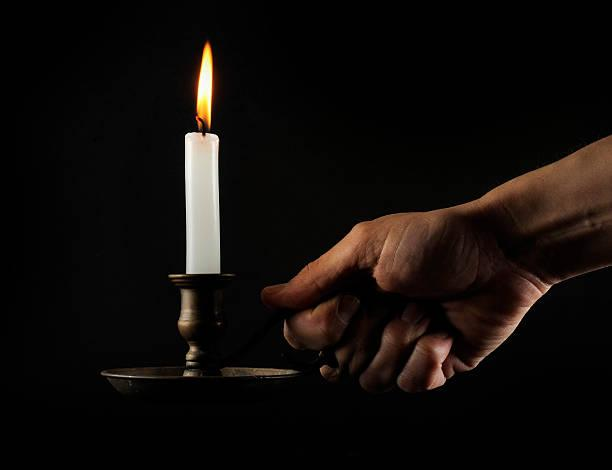Fire: (193, 38, 215, 128)
